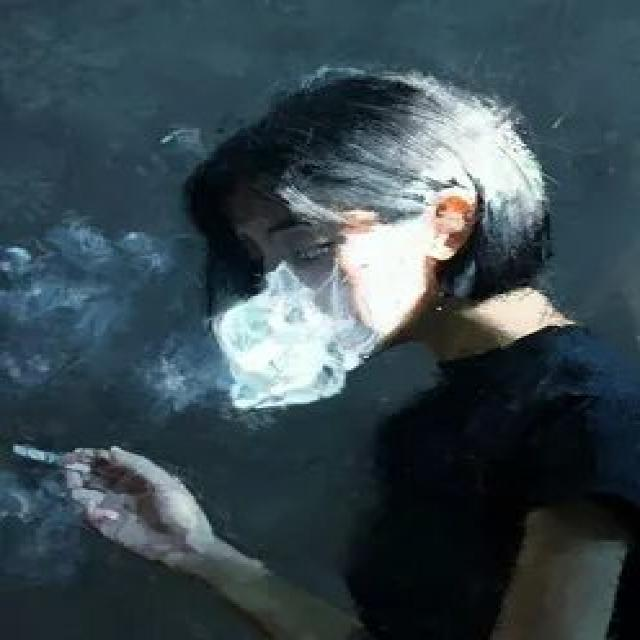smoke: (16, 440, 103, 476)
